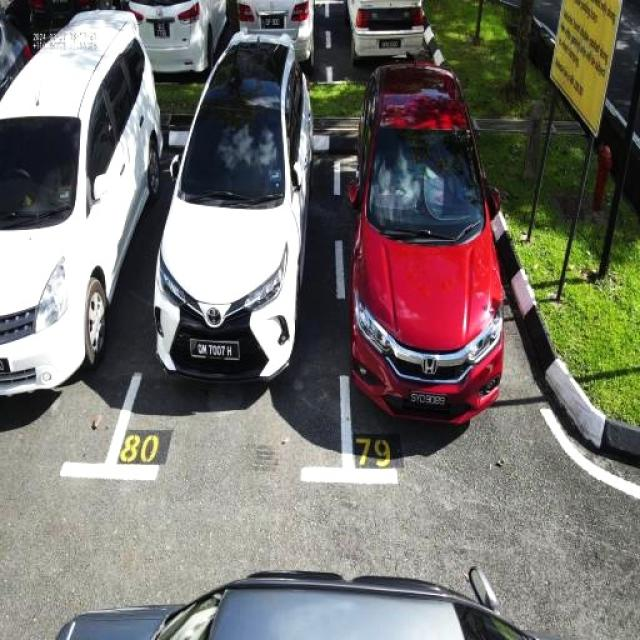Legalparking: (0, 10, 162, 395), (348, 61, 502, 421), (154, 32, 312, 381), (129, 0, 226, 71), (239, 0, 314, 72), (348, 0, 425, 62)
illegalparking: (58, 568, 549, 639)
